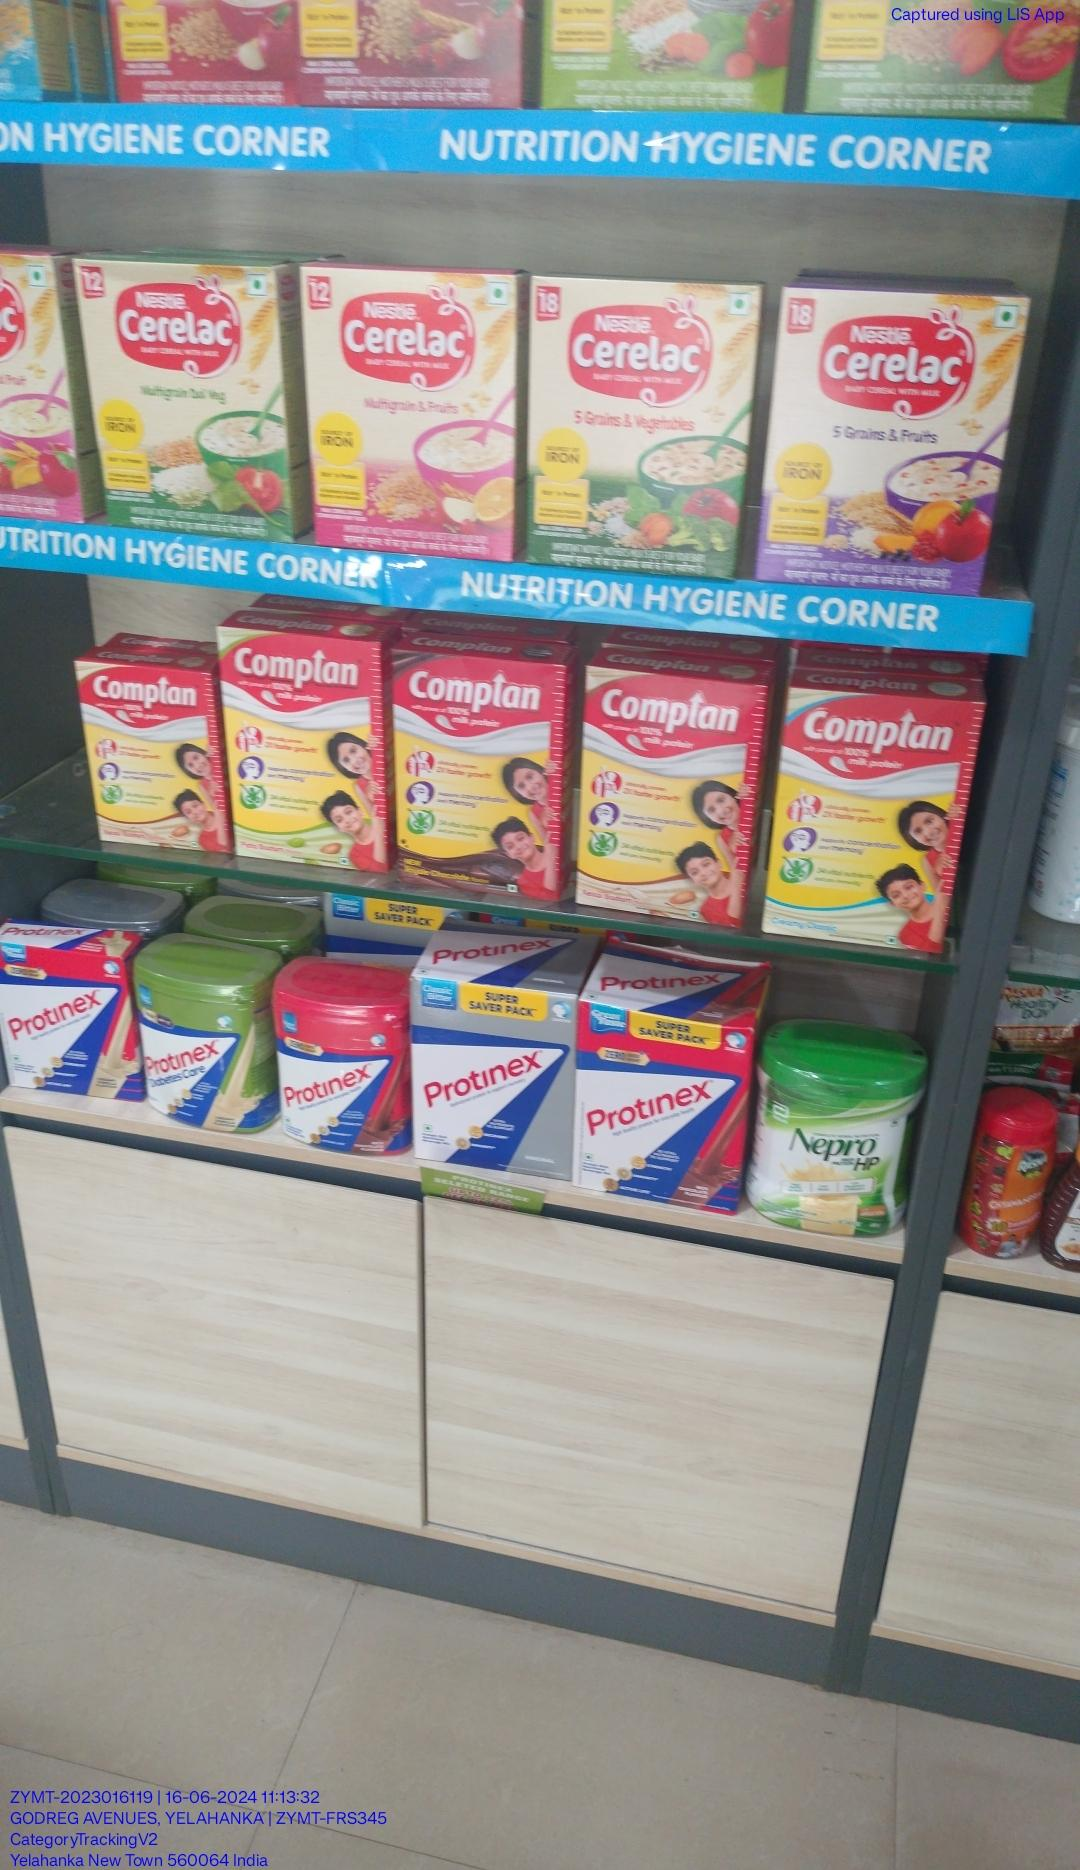COMPLAN_CREAMY_CLASSIC_500_G_PACK: (777, 688, 977, 934)
COMPLAN_KESAR_BADAM_200_GMS_PACK: (87, 664, 215, 853)
COMPLAN_PISTA_BADAM_500_GMS_PACK: (231, 628, 388, 864)
PROTINEX_CHOCOLATE_400_G_JAR: (274, 991, 406, 1154)
